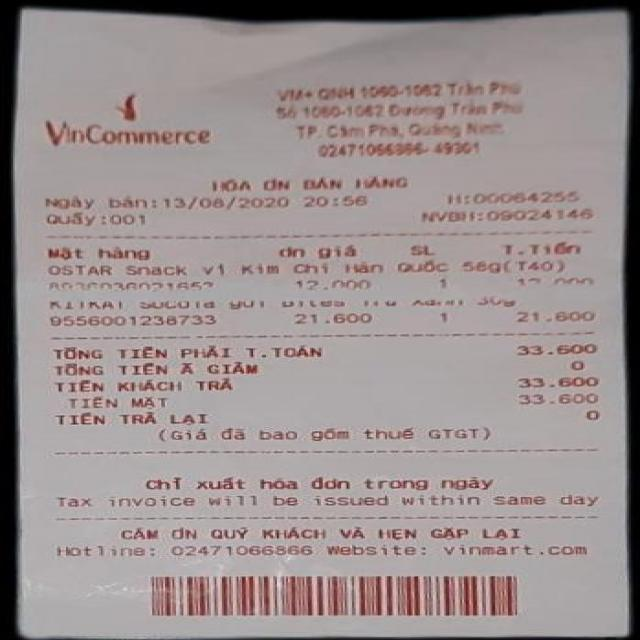Date: (163, 192, 293, 214)
Store_Name: (46, 115, 216, 151)
amount_number: (518, 339, 600, 359)
label_total: (47, 344, 324, 362)
